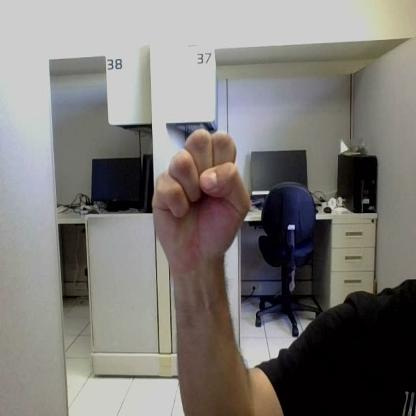S: (153, 127, 249, 268)
